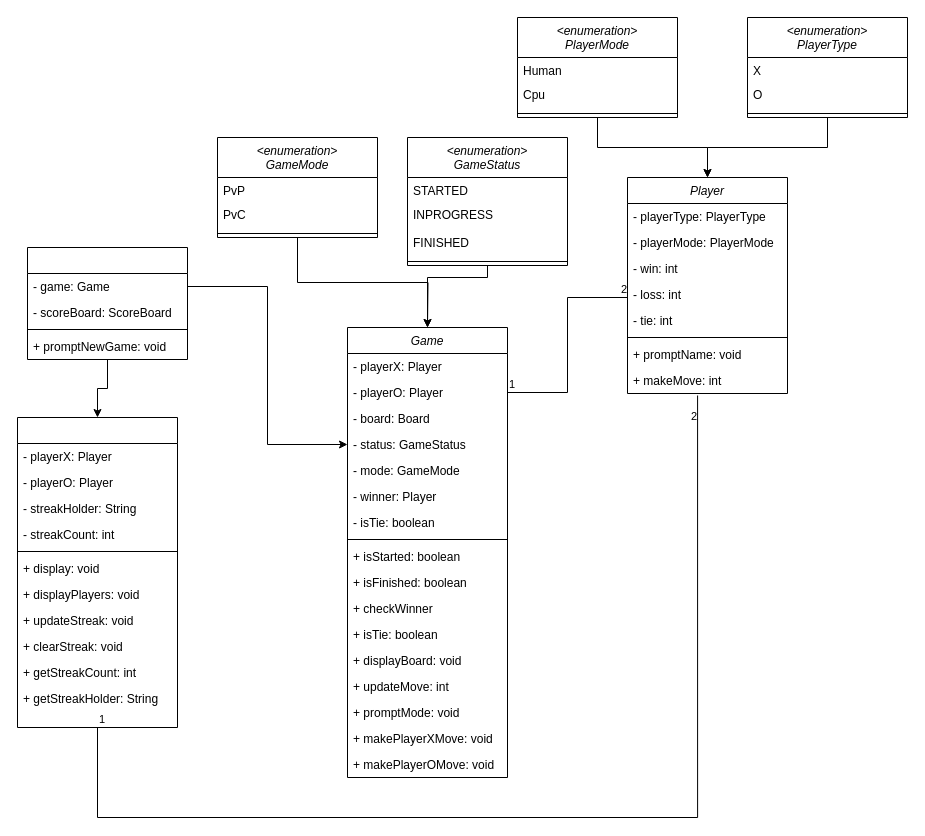
Image size: 925x836. Some labels were removed from this diagram. The box of each missing label's shape, as (x1, y1, x2, y2) in pixels:
main: (26, 246, 188, 360)
ScoreBoard: (16, 416, 178, 728)
